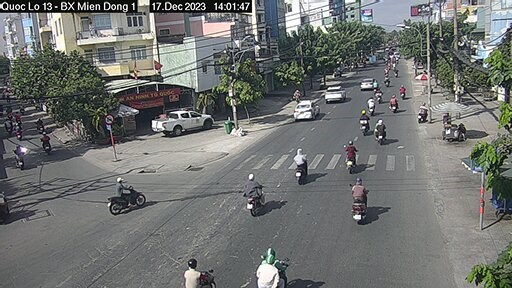car: (148, 107, 217, 138), (293, 99, 321, 122), (322, 83, 347, 104), (358, 75, 379, 90)
motorbike: (106, 178, 151, 219), (252, 245, 293, 288), (178, 253, 219, 288), (242, 171, 267, 217), (290, 146, 311, 187), (349, 178, 369, 220), (338, 138, 360, 175), (12, 142, 30, 172), (38, 133, 56, 156), (413, 103, 432, 123), (358, 106, 370, 135), (375, 118, 387, 143), (364, 93, 376, 117), (389, 91, 399, 116), (398, 82, 406, 101)
